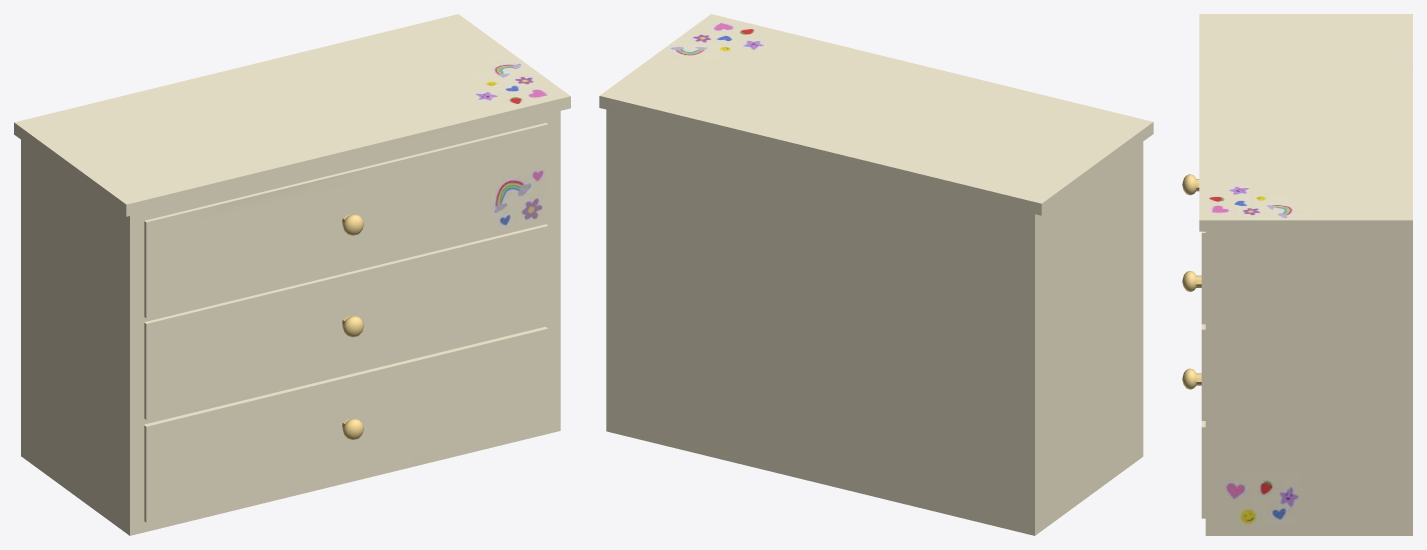
The model's file is dresser_kids_harrodine.glb.
3 views of the same model, side by side, from view 1: azimuth 30°, elevation 25°; view 2: azimuth 150°, elevation 25°; view 3: azimuth 270°, elevation 25° (orthographic). The views are drawn at different scales.
Visible parts, largest first — view 1: defaultMaterial (×3); view 2: defaultMaterial; view 3: defaultMaterial (×3).
Part boxes in pixels (x1,y1,x2,y2): defaultMaterial (×3): (14, 14, 570, 535); defaultMaterial: (599, 14, 1153, 535); defaultMaterial (×3): (1182, 14, 1412, 535).
Bounding box in the file's own units: 1.25 × 0.8997 × 0.5897.
Materials: 3 (2 with a texture image).
